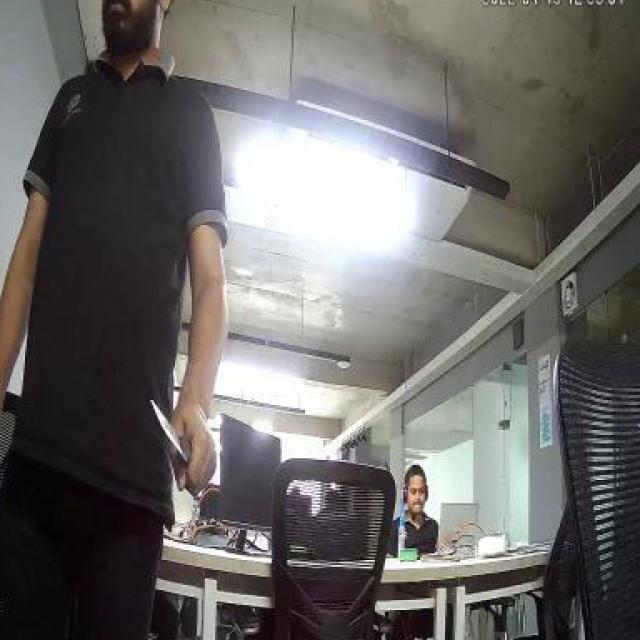Knife: (145, 392, 203, 466)
